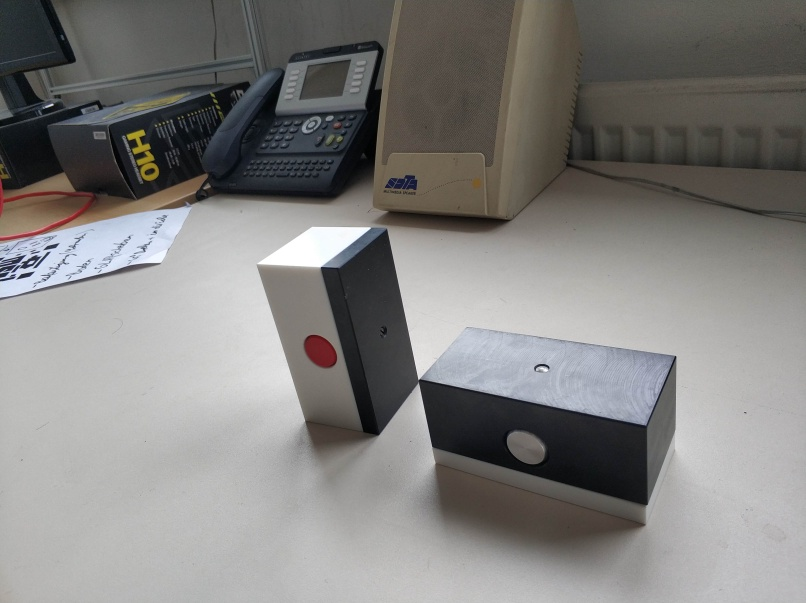black+white+red: (256, 224, 419, 439)
white+black+silver: (423, 324, 679, 529)
